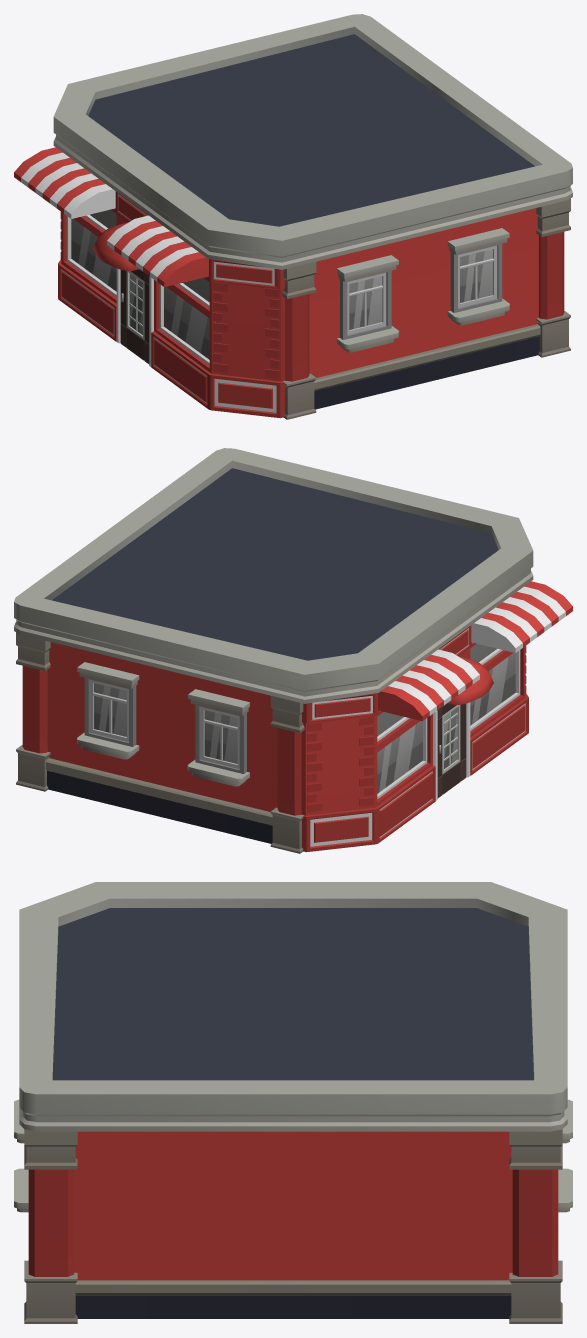
File: Building_3_1_C.fbx
3 views of the same model, one above another, from view 1: azimuth 30°, elevation 25°; view 2: azimuth 150°, elevation 25°; view 3: azimuth 270°, elevation 25° (orthographic). The views are drawn at different scales.
Visible parts, largest first — view 1: Building 3_1_C; view 2: Building 3_1_C; view 3: Building 3_1_C.
Boxes of the visible parts, x1,y1,x2,y2 form: Building 3_1_C: (14, 14, 572, 419); Building 3_1_C: (14, 448, 572, 853); Building 3_1_C: (14, 882, 572, 1323).
Bounding box in the file's own units: 820 × 373 × 812.
